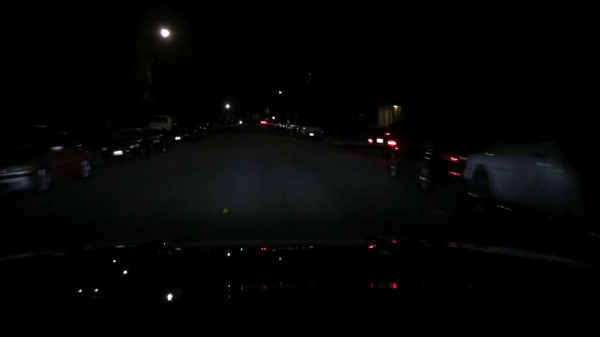car: (462, 132, 599, 237), (0, 124, 93, 195), (389, 129, 482, 192), (99, 127, 158, 164), (365, 128, 403, 149), (149, 128, 175, 152), (296, 125, 326, 142), (171, 124, 197, 142), (193, 123, 207, 135), (287, 124, 300, 136), (203, 121, 214, 132), (211, 121, 223, 130), (219, 120, 229, 130), (283, 123, 294, 132), (228, 119, 237, 128), (278, 121, 287, 130), (272, 120, 281, 128), (233, 118, 241, 126), (267, 120, 275, 127), (259, 120, 266, 125)
